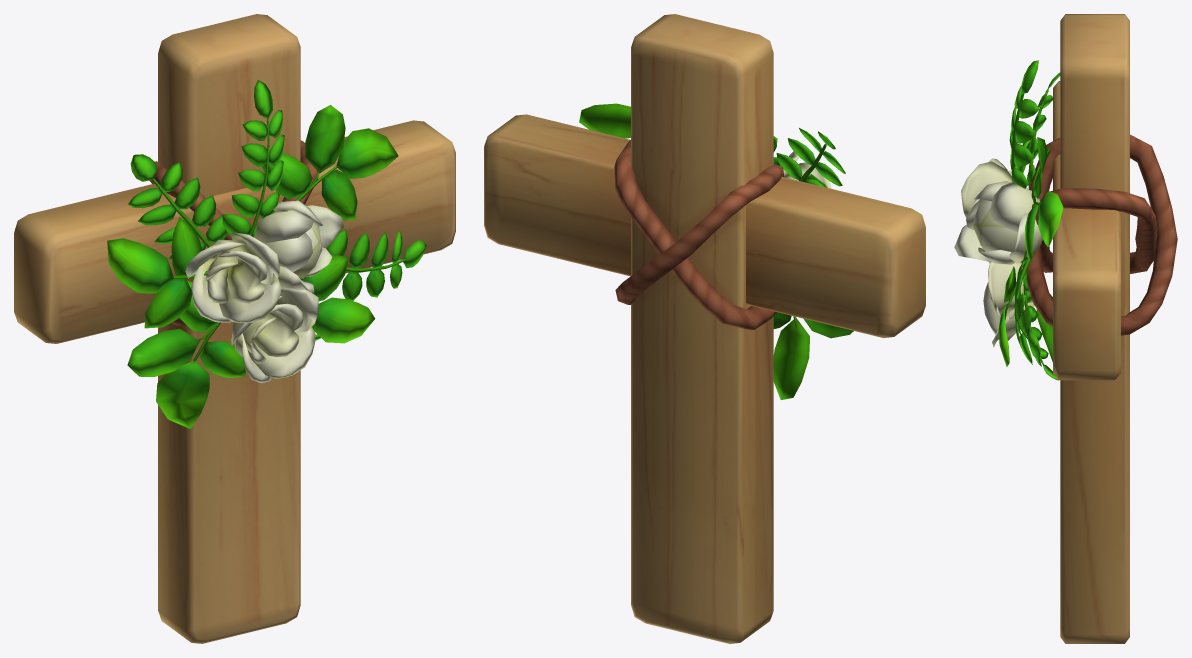
The model's file is HuaShiZi.FBX.
3 renders of one model, left to right at view 1: azimuth 30°, elevation 25°; view 2: azimuth 150°, elevation 25°; view 3: azimuth 270°, elevation 25°, orthographic.
Visible parts, largest first — view 1: HuaShiZi; view 2: HuaShiZi; view 3: HuaShiZi.
Boxes of the visible parts, left/top/right/bottom form: HuaShiZi: left=14, top=14, right=455, bottom=643; HuaShiZi: left=484, top=14, right=925, bottom=643; HuaShiZi: left=954, top=14, right=1177, bottom=643.
Size of the model in its own units: 69.31 by 94.08 by 32.51.
1 material, 1 textured.
